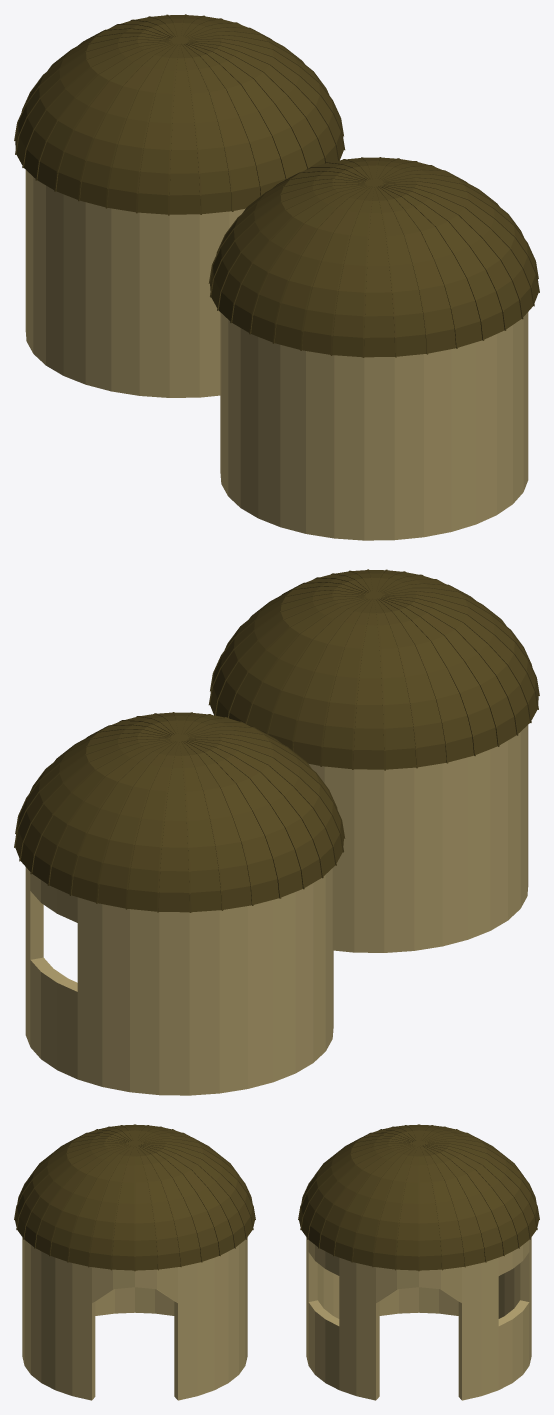
The model's file is Hut.fbx.
3 renders of one model, top to bottom at view 1: azimuth 30°, elevation 25°; view 2: azimuth 150°, elevation 25°; view 3: azimuth 270°, elevation 25°, orthographic. The views are drawn at different scales.
Visible parts, largest first — view 1: Hut1, Hut2; view 2: Hut2, Hut1; view 3: Hut1, Hut2.
Part boxes in pixels (x1,y1,x2,y2): Hut1: (208,157,539,540); Hut2: (14,14,345,397); Hut2: (14,712,345,1095); Hut1: (208,569,539,952); Hut1: (14,1124,255,1400); Hut2: (298,1124,539,1400).
Size of the model in its own units: 589 by 573 by 1280.
